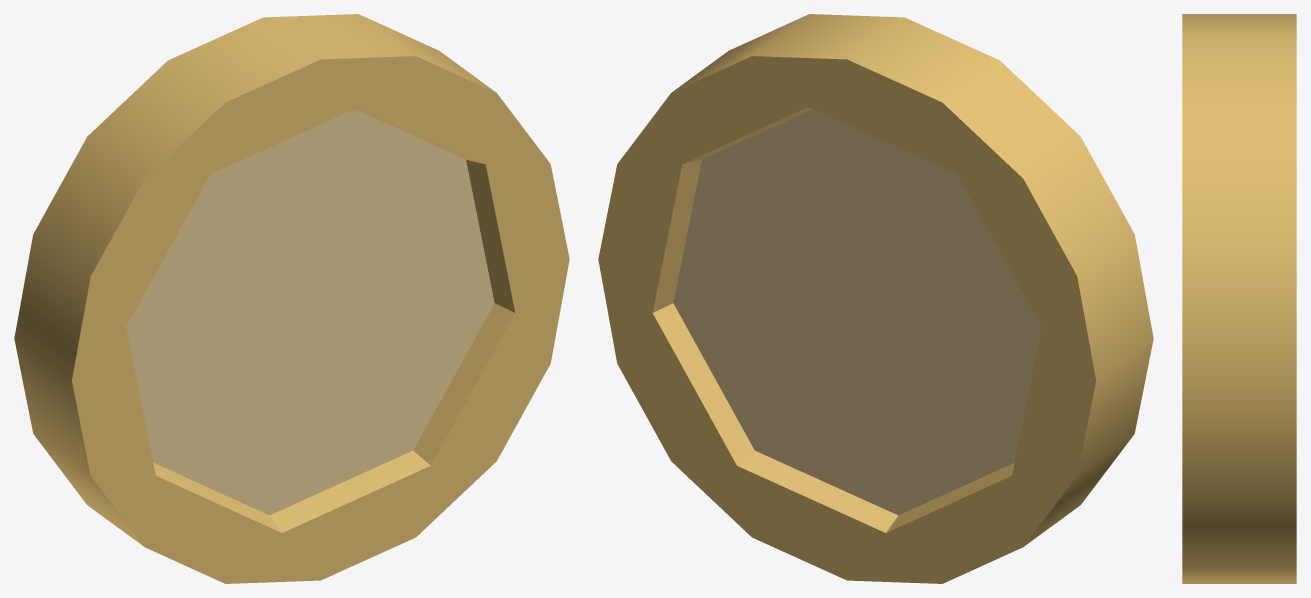
The model's file is coin.fbx.
3 views of the same model, side by side, from view 1: azimuth 30°, elevation 25°; view 2: azimuth 150°, elevation 25°; view 3: azimuth 270°, elevation 25° (orthographic).
Visible parts, largest first — view 1: polySurface30; view 2: polySurface30; view 3: polySurface30.
Part boxes in pixels (bbox=[...]): polySurface30: bbox=[14, 14, 569, 583]; polySurface30: bbox=[598, 14, 1153, 583]; polySurface30: bbox=[1182, 14, 1296, 583].
Bounding box in the file's own units: 23.28 × 23.28 × 4.66.
